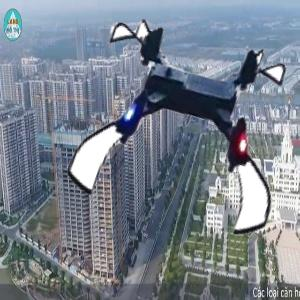drone: (83, 25, 295, 237)
